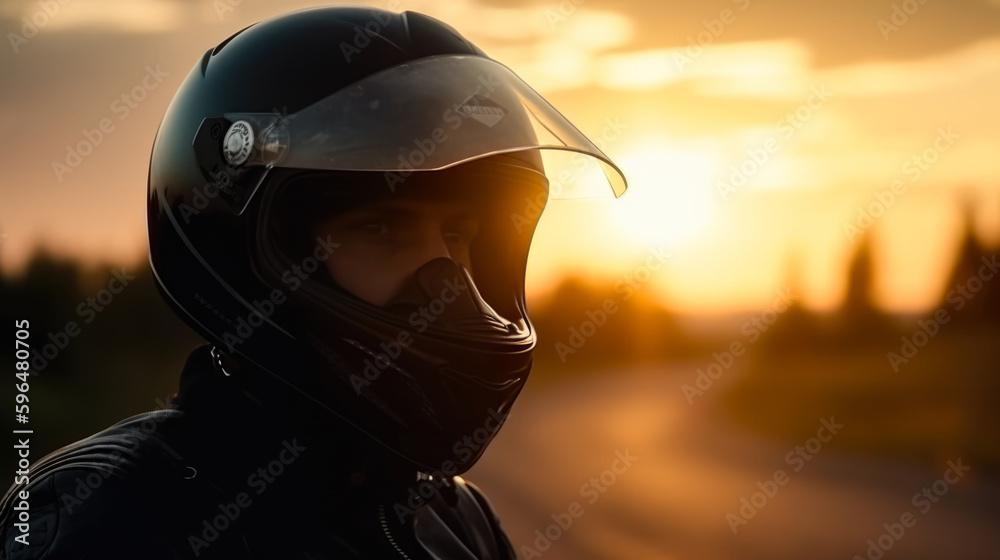helmet: (144, 4, 630, 479)
